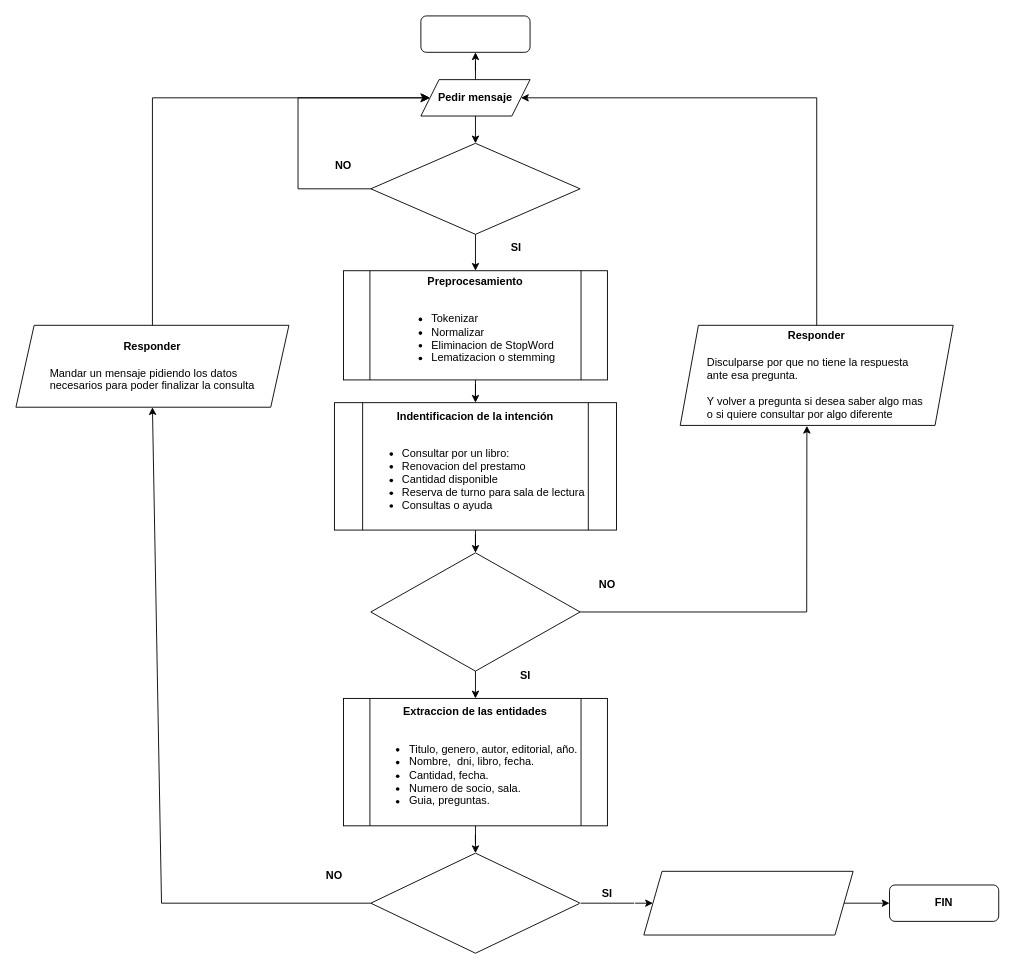
Some shapes in this 1015 by 969 pixel diagram are drawn without their labels. The centre of each missing label's shape, as x and y in pixels:
INICIO: pixel 475 33
Responder Mandar un mensaje resultado, de la consulta realizada: pixel 748 902
¿Ha enviado un mensaje?: pixel 475 188
¿Se encuentra la intencion como posible respuesta?: pixel 475 611
¿Se encuentra las entidades, necesarias?: pixel 475 902
